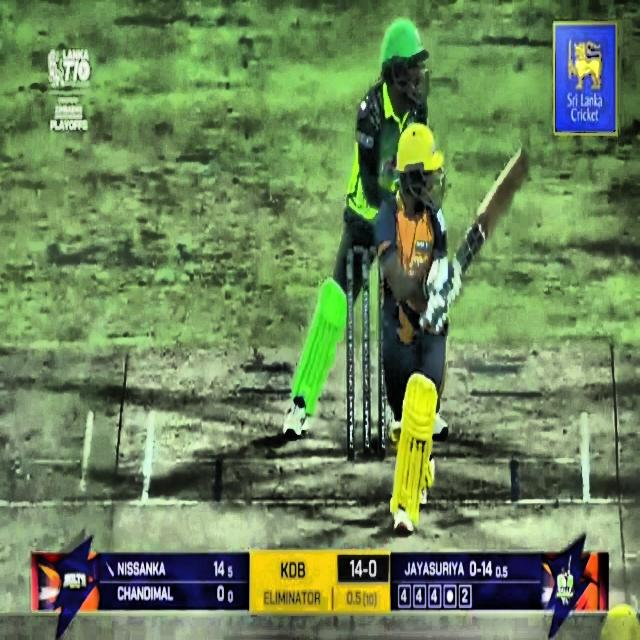Left-stump: (346, 247, 356, 461)
Middle-stump: (363, 254, 370, 456)
Right-stump: (380, 262, 385, 452)
